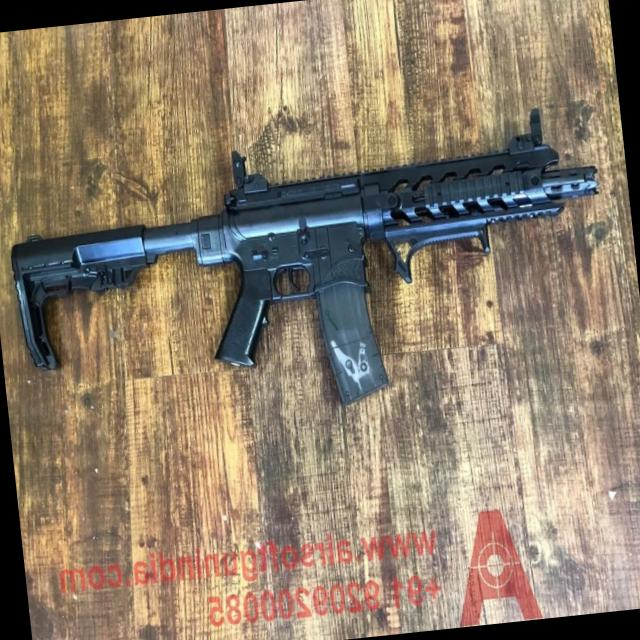Weapon: (0, 97, 626, 451)
